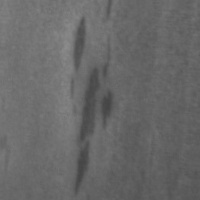inclusion: (71, 34, 118, 198), (65, 13, 92, 102), (95, 86, 118, 133), (0, 133, 21, 173), (103, 1, 116, 24)
